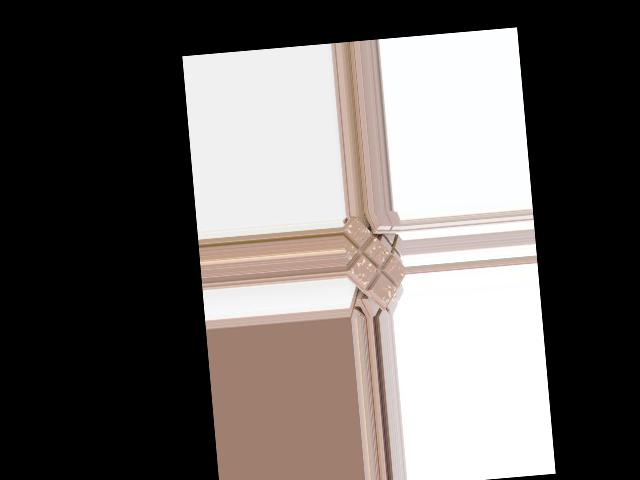chocolate: (341, 213, 406, 306)
